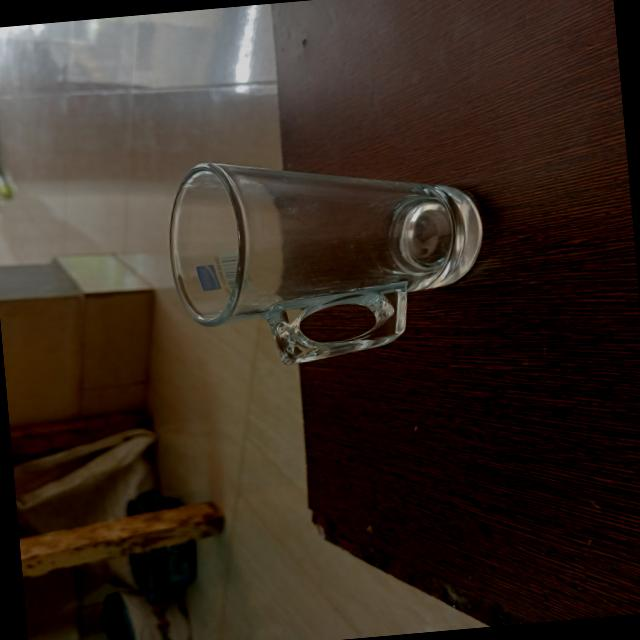glass-VX4N: (160, 136, 497, 374)
